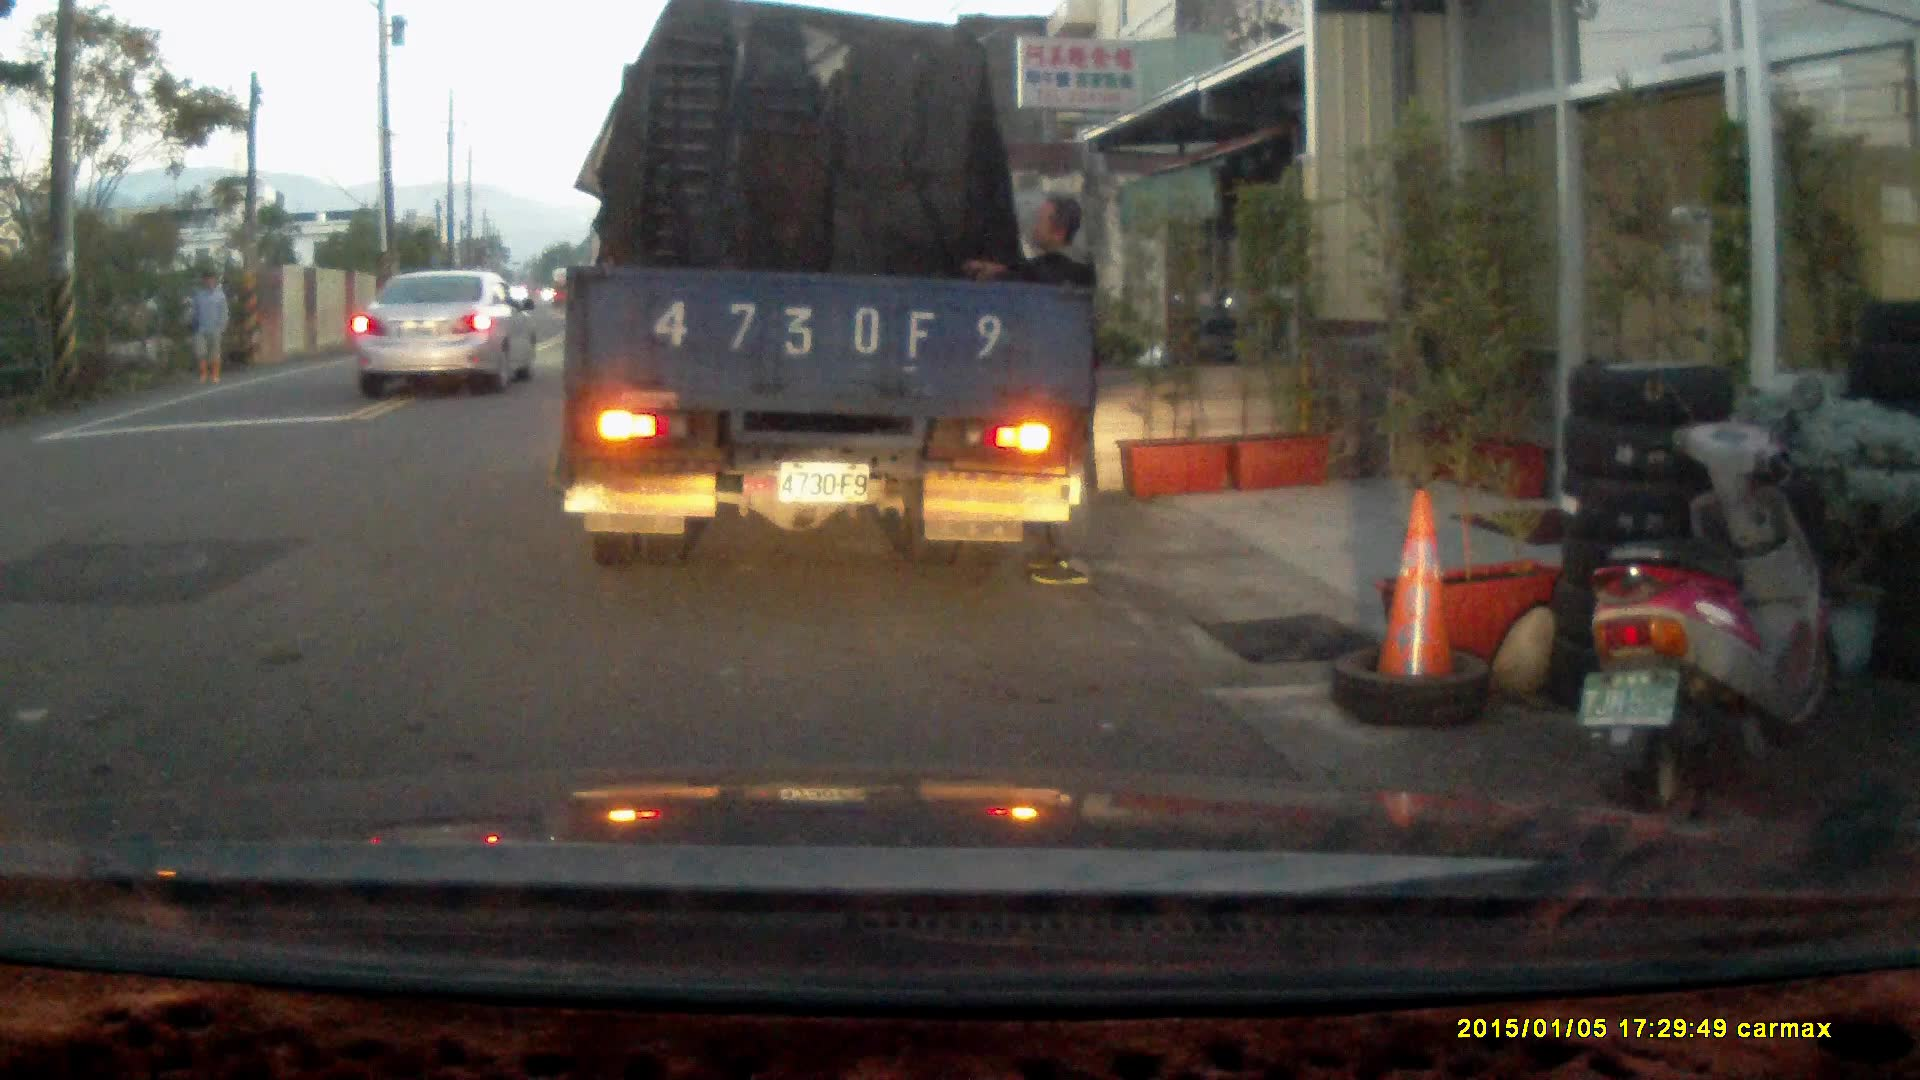pedestrian: (955, 194, 1099, 587), (184, 271, 228, 386)
vehicle: (565, 23, 1097, 572), (353, 268, 546, 398)
